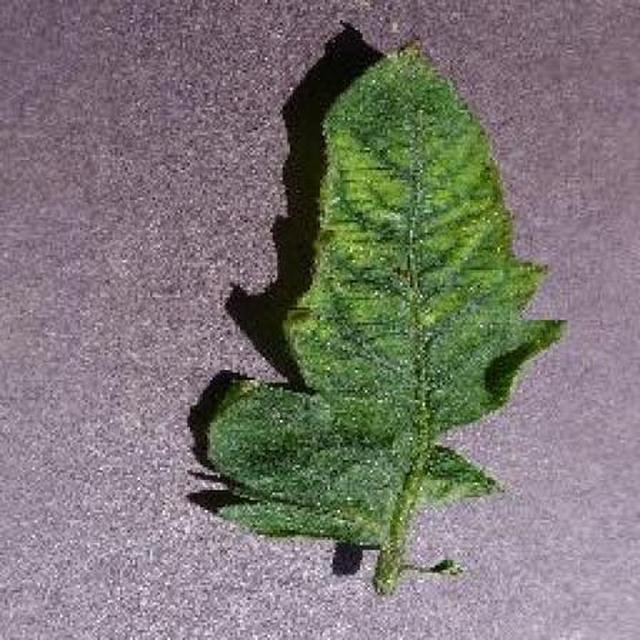Mosaic Virus Leaf: (295, 101, 640, 640)
